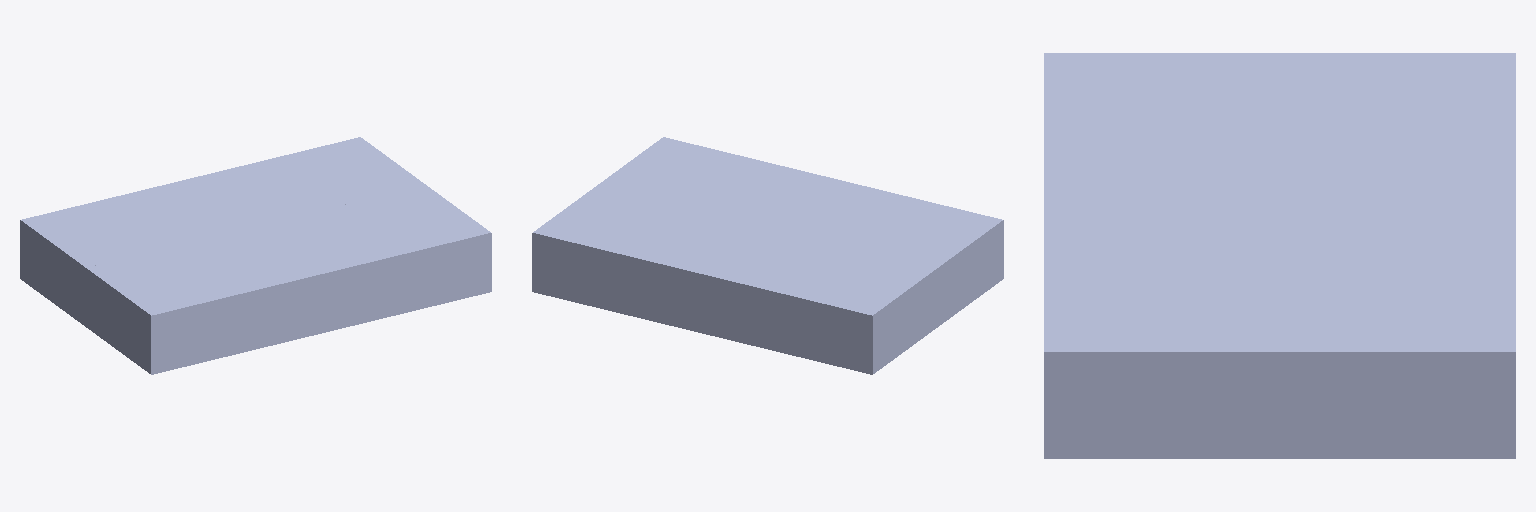
URDF robot description (piano):
<?xml version="1.0" encoding="utf-8"?>
<!-- This URDF was automatically created by SolidWorks to URDF Exporter! Originally created by [author] ([email redacted]) 
     Commit Version: 1.6.0-1-g15f4949  Build Version: 1.6.7594.29634
     For more information, please see http://wiki.ros.org/sw_urdf_exporter -->
<robot
  name="piano">
  <link
    name="base_link">
    <inertial>
      <origin
        xyz="0.0332395359487273 -0.0818001639870704 0.0554396606130252"
        rpy="0 0 0" />
      <mass
        value="0.1875" />
      <inertia
        ixx="4.8828125E-05"
        ixy="-4.61011798758941E-20"
        ixz="6.77626357803443E-22"
        iyy="0.000361328125"
        iyz="1.79385696360699E-21"
        izz="0.000390625" />
    </inertial>
    <visual>
      <origin
        xyz="0 0 0"
        rpy="0 0 0" />
      <geometry>
        <mesh
          filename="package://piano/meshes/base_link.STL" />
      </geometry>
      <material
        name="">
        <color
          rgba="0.792156862745098 0.819607843137255 0.933333333333333 1" />
      </material>
    </visual>
    <collision>
      <origin
        xyz="0 0 0"
        rpy="0 0 0" />
      <geometry>
        <mesh
          filename="package://piano/meshes/base_link.STL" />
      </geometry>
    </collision>
  </link>
  <link
    name="Empty_Link">
    <inertial>
      <origin
        xyz="6.93889390390723E-18 0.0125 -0.025"
        rpy="0 0 0" />
      <mass
        value="0.1875" />
      <inertia
        ixx="4.8828125E-05"
        ixy="6.7762635780344E-22"
        ixz="4.61011798758941E-20"
        iyy="0.000390625"
        iyz="6.12954105867009E-37"
        izz="0.000361328125" />
    </inertial>
    <visual>
      <origin
        xyz="0 0 0"
        rpy="0 0 0" />
      <geometry>
        <mesh
          filename="package://piano/meshes/Empty_Link.STL" />
      </geometry>
      <material
        name="">
        <color
          rgba="0.792156862745098 0.819607843137255 0.933333333333333 1" />
      </material>
    </visual>
    <collision>
      <origin
        xyz="0 0 0"
        rpy="0 0 0" />
      <geometry>
        <mesh
          filename="package://piano/meshes/Empty_Link.STL" />
      </geometry>
    </collision>
  </link>
  <joint
    name="dummy joint"
    type="fixed">
    <origin
      xyz="0.03324 -0.0568 0.04294"
      rpy="1.5708 0 0" />
    <parent
      link="base_link" />
    <child
      link="Empty_Link" />
    <axis
      xyz="0 0 0" />
  </joint>
</robot>

--- Facts derived from the render (not from the file) ---
The picture shows the robot from 3 angles, left to right: view 1: azimuth 30°, elevation 25°; view 2: azimuth 150°, elevation 25°; view 3: azimuth 270°, elevation 25°; orthographic projection.
Model piano with 2 links and 1 joints (1 fixed), rooted at base_link, posed every joint at zero.
Visible links, largest first — view 1: base_link, Empty_Link; view 2: Empty_Link, base_link; view 3: base_link, Empty_Link.
Link boxes in pixels (left/top/right/bottom): base_link: left=86, top=185, right=491, bottom=374; Empty_Link: left=20, top=137, right=425, bottom=326; Empty_Link: left=532, top=185, right=937, bottom=374; base_link: left=598, top=137, right=1003, bottom=326; base_link: left=1044, top=53, right=1279, bottom=458; Empty_Link: left=1280, top=53, right=1515, bottom=458.
Size in the robot's own frame: 0.15 by 0.1 by 0.025 metres.
Meshes: 2 distinct files referenced, 2 mesh visuals loaded (2 binary STL).